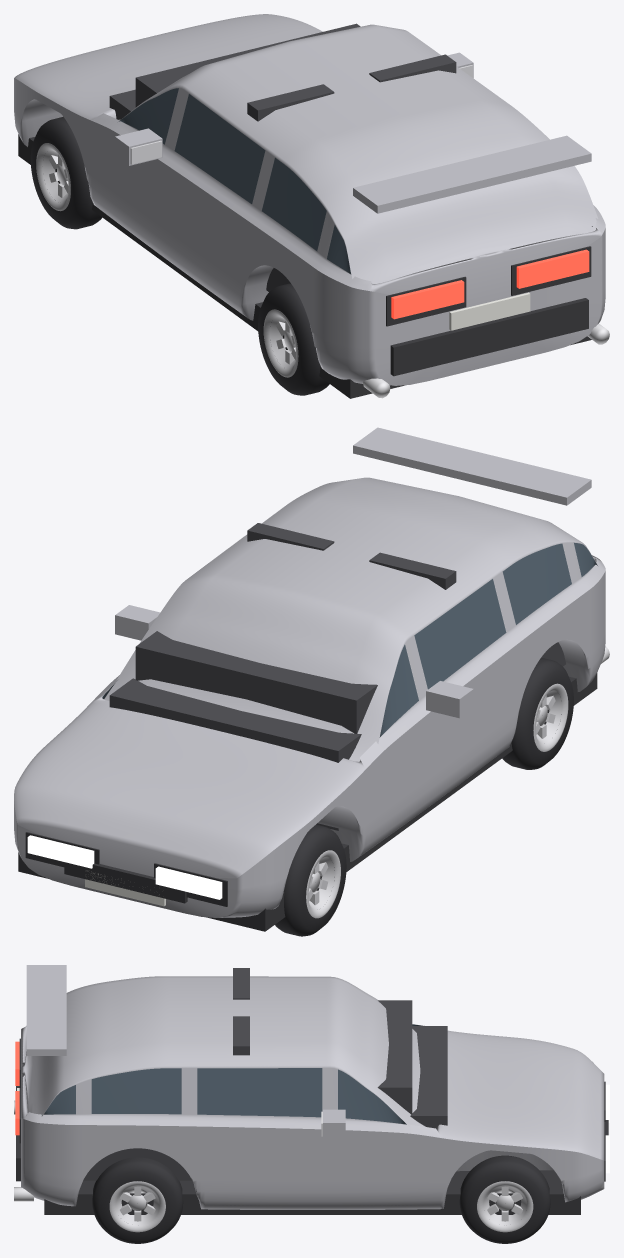
The model's file is kercyesi.glb.
The picture shows the model from 3 angles, top to bottom: view 1: azimuth 30°, elevation 25°; view 2: azimuth 150°, elevation 25°; view 3: azimuth 270°, elevation 25°; orthographic projection. The views are drawn at different scales.
Parts seen in each view (by area): view 1: body, wheel_rl, wheel_fl; view 2: body, wheel_fl, wheel_rl; view 3: body, wheel_fr, wheel_rr.
Part boxes in pixels (box(x1,y1,x2,y2)): body: box(14, 14, 609, 398); wheel_rl: box(258, 283, 329, 395); wheel_fl: box(30, 116, 102, 229); body: box(14, 427, 609, 931); wheel_fl: box(275, 824, 346, 936); wheel_rl: box(502, 658, 573, 769); body: box(14, 965, 609, 1214); wheel_fr: box(459, 1155, 550, 1243); wheel_rr: box(92, 1157, 183, 1243).
Size of the model in its own units: 2.26 by 1.46 by 4.19.
